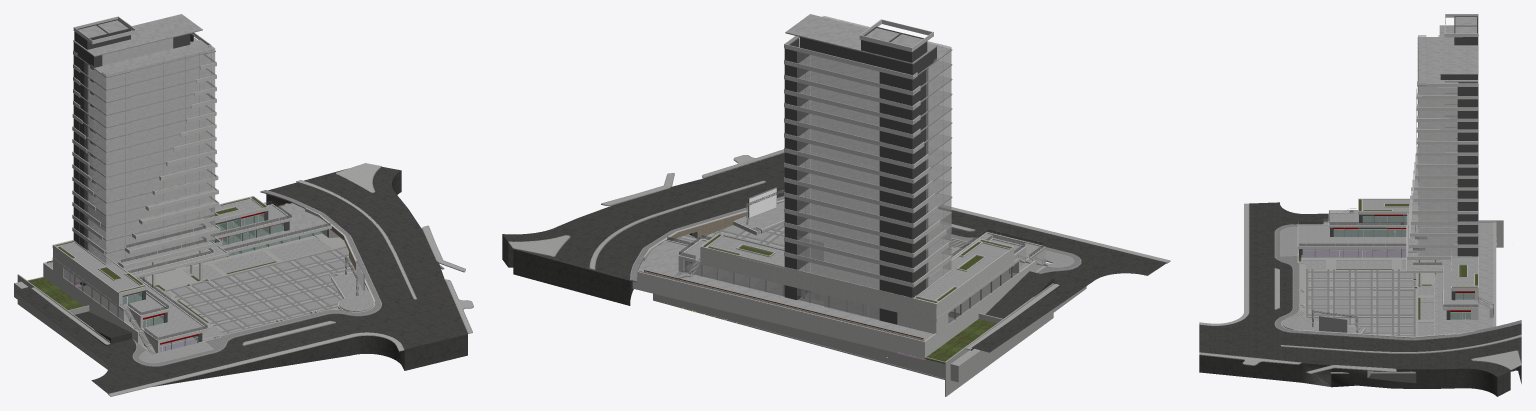
Rendered from plaza-textured.glb.
3 renders of one model, left to right at view 1: azimuth 30°, elevation 25°; view 2: azimuth 150°, elevation 25°; view 3: azimuth 270°, elevation 25°, orthographic. The views are drawn at different scales.
Visible parts, largest first — view 1: Box31199, Box30355, Box46655, 3dSolid, Obj_3dSolid_2, Box54509, Obj_3dSolid_7, 3dSolid1033, Line719, Object004, Glass, Obj_3dSolid_10 (+3 smaller); view 2: 3dSolid, Box31199, Box30355, Box46655, 3dSolid1033, Obj_3dSolid_2, 3dSolid1309, Line719, Obj_3dSolid_10, Box54509, Box30498, Obj_3dSolid_7 (+3 smaller); view 3: Box30355, Box31199, 3dSolid, Obj_3dSolid_2, Box46655, Box54509, 3dSolid1033, Obj_3dSolid_7, Line719, Object004, Obj_3dSolid_20, Box30498 (+3 smaller).
Boxes of the visible parts, bbox=[...] form: Box31199: bbox=[47, 14, 373, 354]; Box30355: bbox=[14, 167, 467, 393]; Box46655: bbox=[79, 37, 215, 264]; 3dSolid: bbox=[43, 16, 375, 353]; Obj_3dSolid_2: bbox=[14, 163, 472, 396]; Box54509: bbox=[133, 190, 444, 365]; Obj_3dSolid_7: bbox=[138, 247, 355, 363]; 3dSolid1033: bbox=[73, 19, 289, 341]; Line719: bbox=[108, 163, 473, 394]; Object004: bbox=[122, 213, 322, 352]; Glass: bbox=[121, 201, 330, 339]; Obj_3dSolid_10: bbox=[28, 197, 276, 322]; 3dSolid: bbox=[632, 19, 1045, 359]; Box31199: bbox=[638, 14, 1048, 340]; Box30355: bbox=[502, 153, 1166, 352]; Box46655: bbox=[797, 16, 951, 319]; 3dSolid1033: bbox=[784, 26, 936, 324]; Obj_3dSolid_2: bbox=[508, 150, 1170, 396]; 3dSolid1309: bbox=[684, 260, 1018, 323]; Line719: bbox=[508, 149, 1167, 280]; Obj_3dSolid_10: bbox=[703, 235, 1011, 363]; Box54509: bbox=[631, 196, 1080, 282]; Box30498: bbox=[674, 187, 1050, 319]; Obj_3dSolid_7: bbox=[675, 224, 1074, 267]; Box30355: bbox=[1199, 202, 1521, 396]; Box31199: bbox=[1282, 17, 1495, 377]; 3dSolid: bbox=[1281, 14, 1496, 337]; Obj_3dSolid_2: bbox=[1199, 203, 1520, 372]; Box46655: bbox=[1418, 35, 1457, 256]; Box54509: bbox=[1275, 224, 1521, 373]; 3dSolid1033: bbox=[1299, 16, 1478, 319]; Obj_3dSolid_7: bbox=[1280, 226, 1413, 336]; Line719: bbox=[1199, 204, 1521, 373]; Object004: bbox=[1302, 215, 1474, 319]; Obj_3dSolid_20: bbox=[1303, 242, 1496, 257]; Box30498: bbox=[1312, 208, 1493, 332].
Bounding box in the file's own units: 126 × 80.21 × 89.43.
33 materials, 10 textured.
